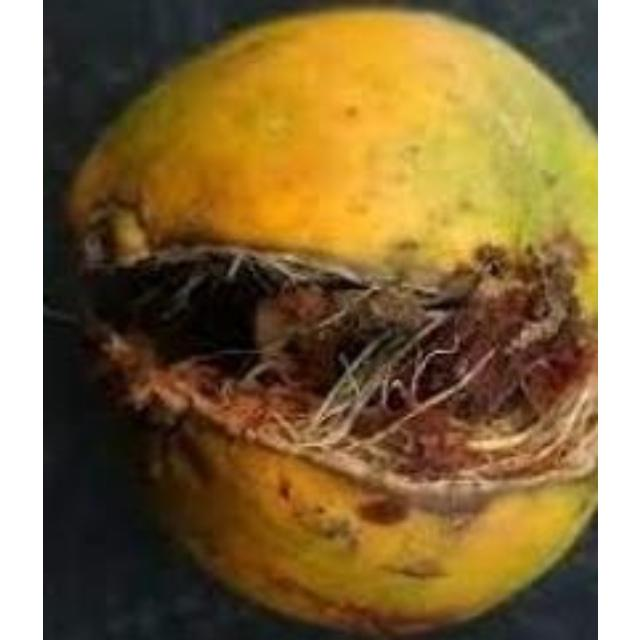damaged: (63, 5, 594, 637)
